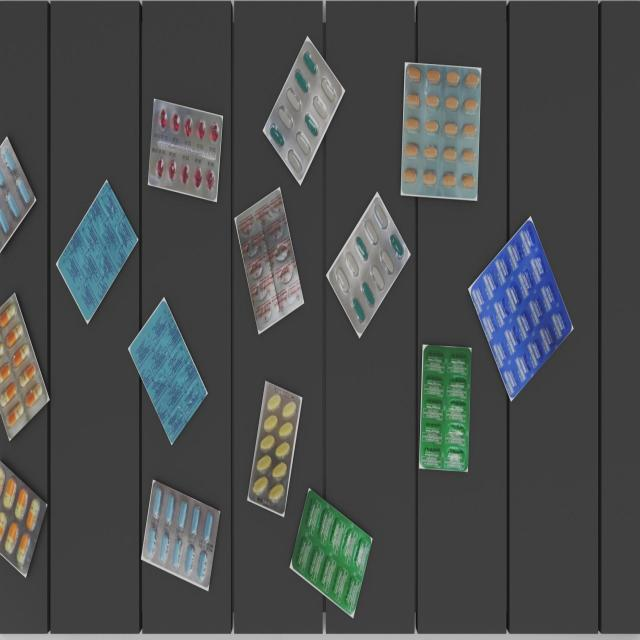blister: (468, 218, 573, 402), (327, 192, 409, 338), (57, 180, 137, 322), (129, 300, 207, 444), (266, 38, 344, 182), (402, 63, 481, 200), (292, 484, 372, 617), (239, 183, 304, 336), (140, 475, 220, 592), (148, 96, 220, 204), (249, 380, 302, 513), (0, 294, 48, 438), (419, 342, 472, 470), (0, 461, 47, 576), (0, 138, 34, 251)
